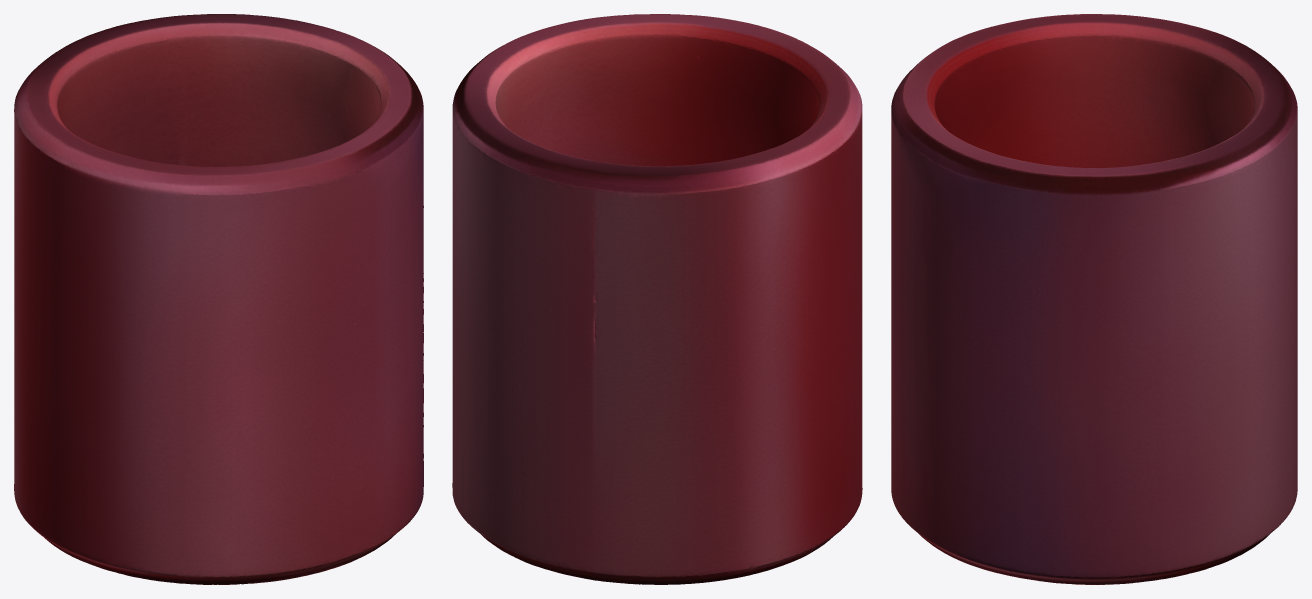
Rendered from original.glb.
The picture shows the model from 3 angles, left to right: view 1: azimuth 30°, elevation 25°; view 2: azimuth 150°, elevation 25°; view 3: azimuth 270°, elevation 25°; orthographic projection.
Visible parts, largest first — view 1: world; view 2: world; view 3: world.
Boxes of the visible parts, box(x1,y1,x2,y2) form: world: box(14, 14, 423, 584); world: box(452, 14, 862, 584); world: box(891, 14, 1297, 584).
Bounding box in the file's own units: 0.0858 × 0.095 × 0.0851.
1 material, 1 textured.
